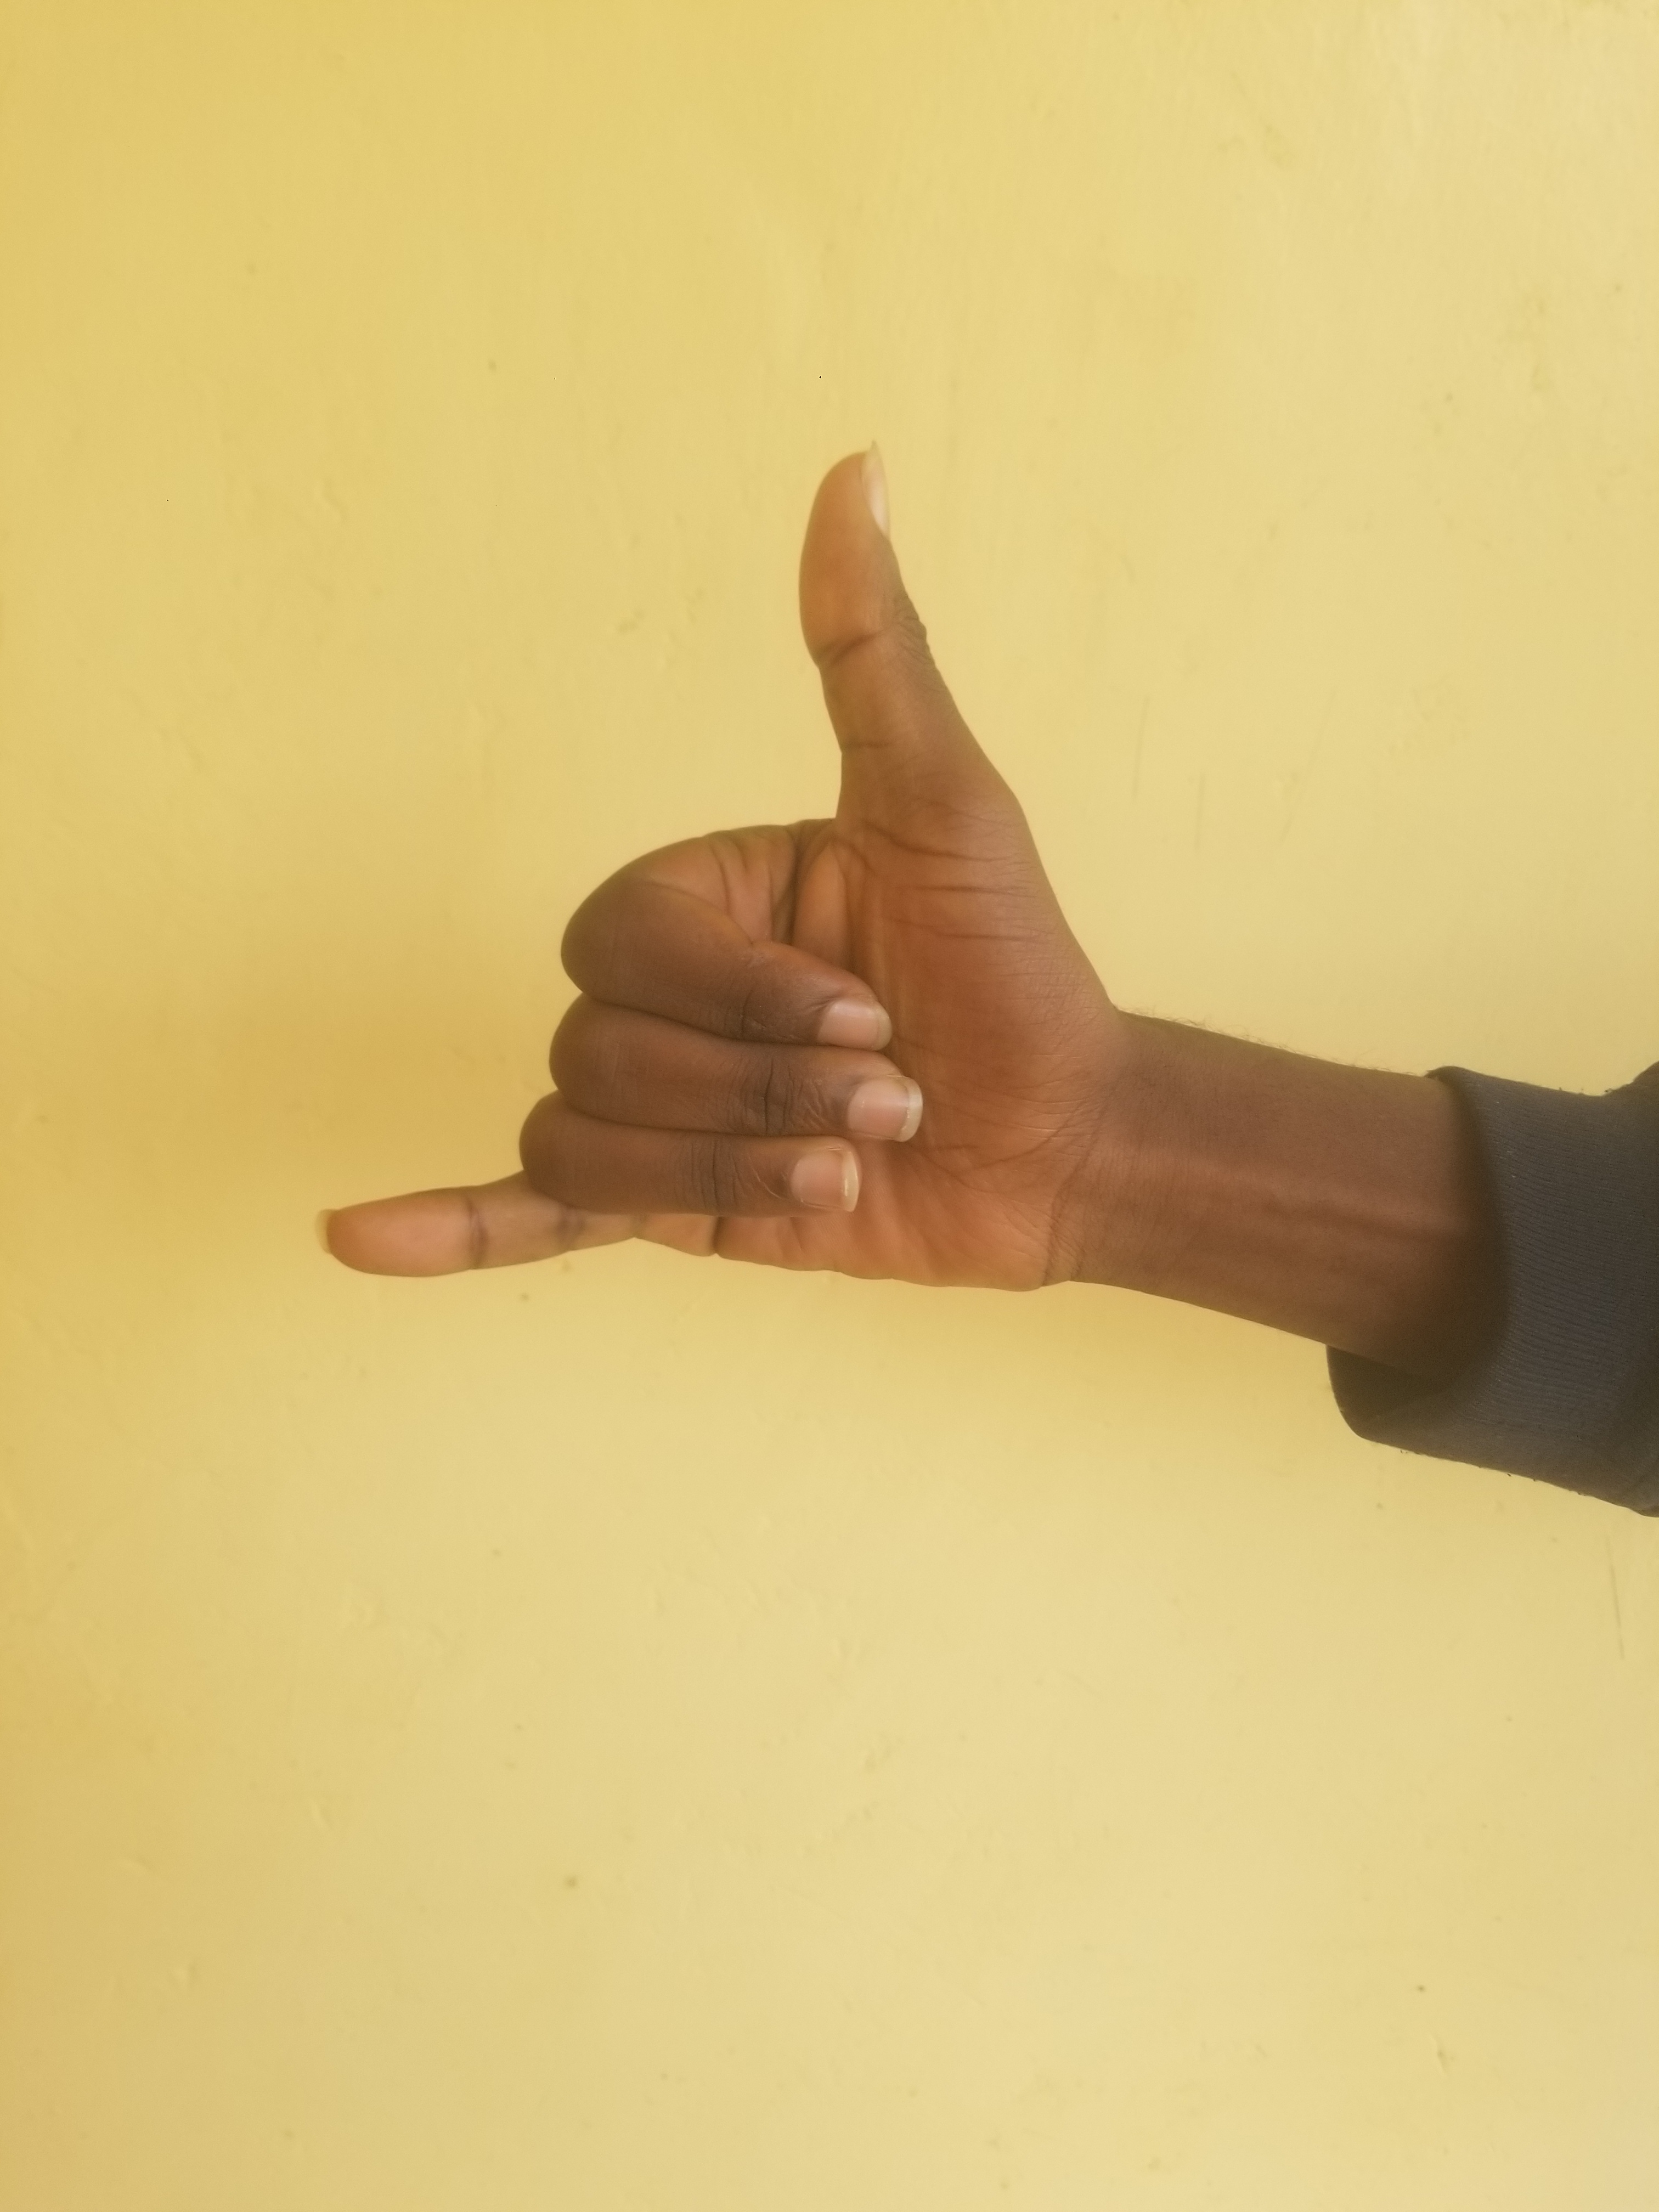call: (275, 371, 1309, 1575)
